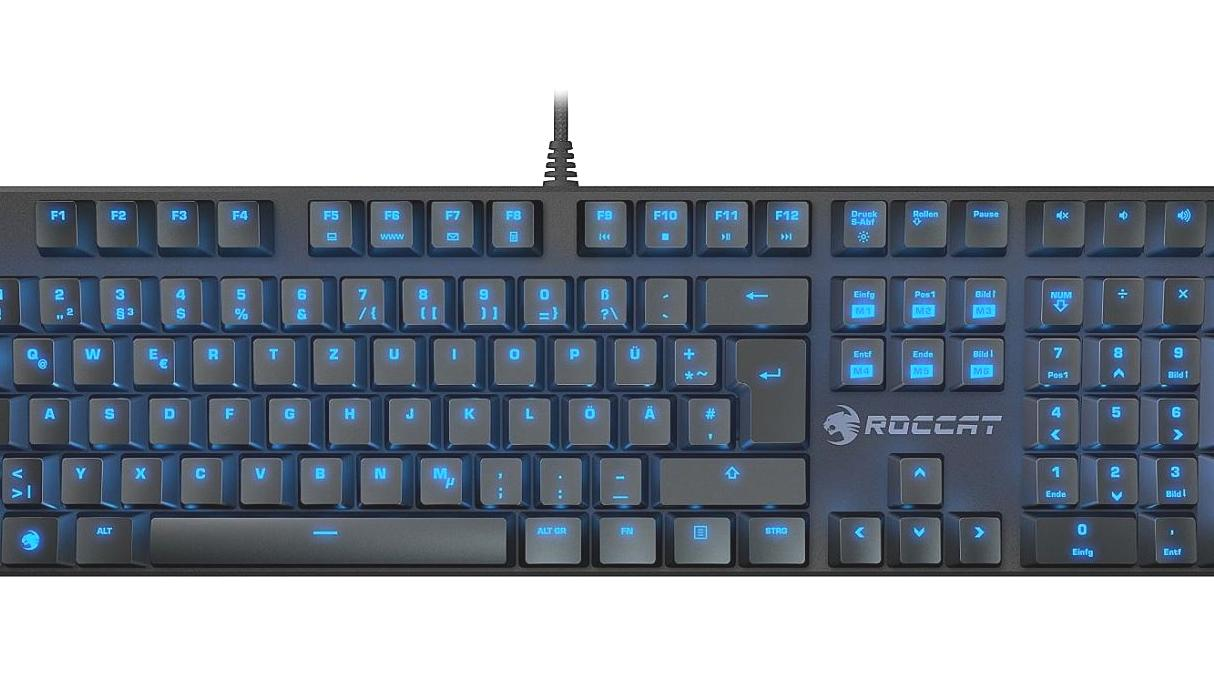0: (518, 271, 567, 324)
1: (1, 273, 22, 324)
2: (37, 273, 81, 325)
3: (96, 273, 142, 325)
4: (157, 272, 202, 324)
5: (218, 273, 264, 325)
6: (278, 272, 325, 324)
7: (338, 272, 385, 325)
8: (398, 272, 446, 325)
9: (458, 272, 506, 324)
a: (25, 392, 68, 443)
accent: (639, 272, 686, 323)
ae: (623, 391, 670, 444)
alt-left: (72, 511, 131, 562)
altgr-right: (519, 510, 582, 563)
b: (296, 451, 342, 503)
c: (176, 451, 222, 502)
caret: (1, 273, 22, 324)
comma: (475, 451, 521, 503)
d: (146, 392, 189, 443)
del: (699, 272, 808, 324)
e: (130, 331, 175, 384)
enter: (729, 330, 805, 442)
f: (206, 392, 249, 443)
g: (265, 392, 309, 442)
h: (325, 392, 370, 443)
hash: (683, 391, 729, 443)
i: (430, 331, 475, 382)
j: (385, 392, 431, 443)
k: (444, 391, 490, 443)
keyboard: (1, 177, 1214, 582)
l: (504, 392, 550, 443)
less: (1, 451, 41, 503)
m: (415, 450, 463, 503)
minus: (594, 451, 641, 503)
n: (356, 451, 402, 503)
o: (489, 331, 536, 384)
oe: (563, 392, 610, 443)
p: (548, 331, 596, 383)
plus: (667, 331, 716, 385)
point: (535, 451, 581, 503)
q: (9, 332, 53, 384)
r: (189, 331, 233, 383)
s: (85, 392, 129, 443)
shift-left: (1, 452, 29, 503)
shift-lock: (1, 393, 45, 444)
shift-right: (656, 451, 806, 504)
space: (141, 509, 510, 564)
ss: (578, 272, 627, 324)
strg-left: (1, 511, 29, 562)
strg-right: (742, 511, 806, 563)
t: (250, 331, 294, 383)
tab: (1, 332, 37, 384)
u: (369, 331, 415, 384)
ue: (609, 331, 656, 384)
v: (236, 450, 282, 502)
w: (69, 331, 112, 383)
x: (118, 451, 161, 502)
y: (57, 451, 100, 502)
z: (309, 331, 354, 384)
